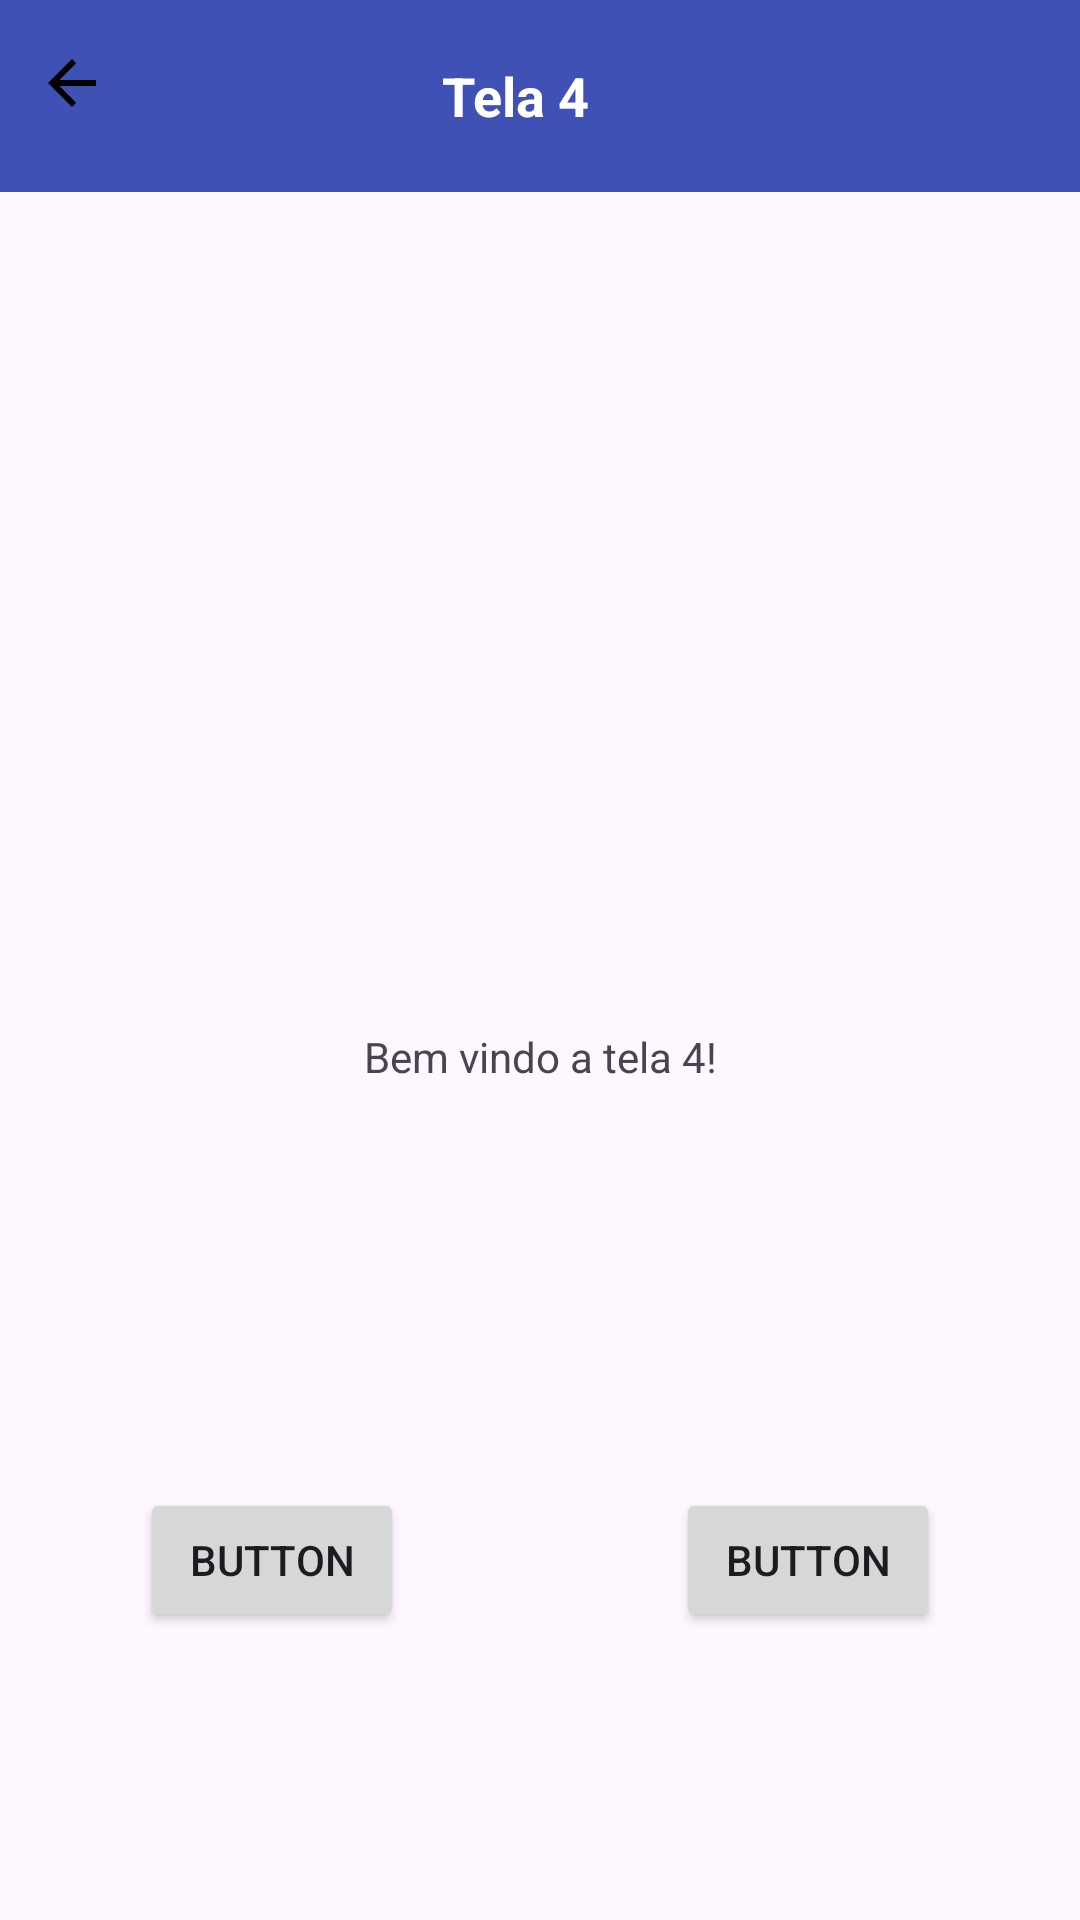

Icon bounding boxes for this 1080 × 1920 phone screenshot, format (x1, y1, x2, y2):
Previous: (48, 59, 96, 107)
